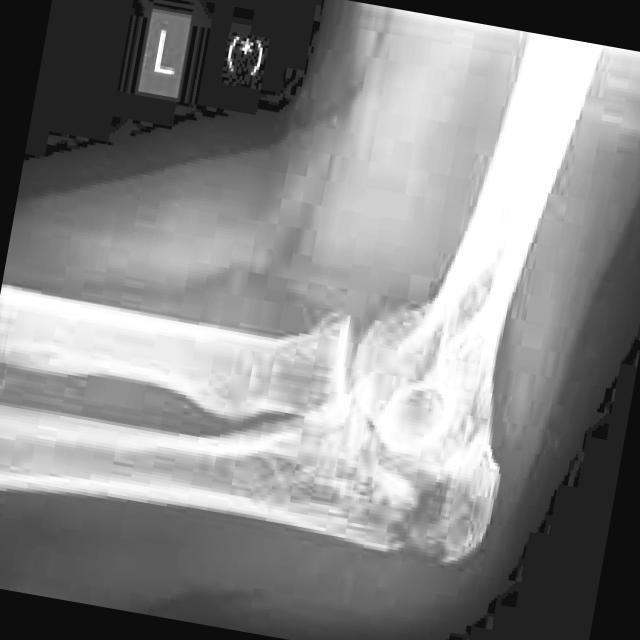Comminuted Fracture: (363, 476, 489, 574)
